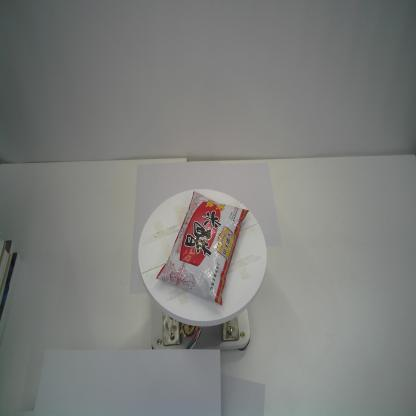Seasoner: (155, 191, 249, 306)
